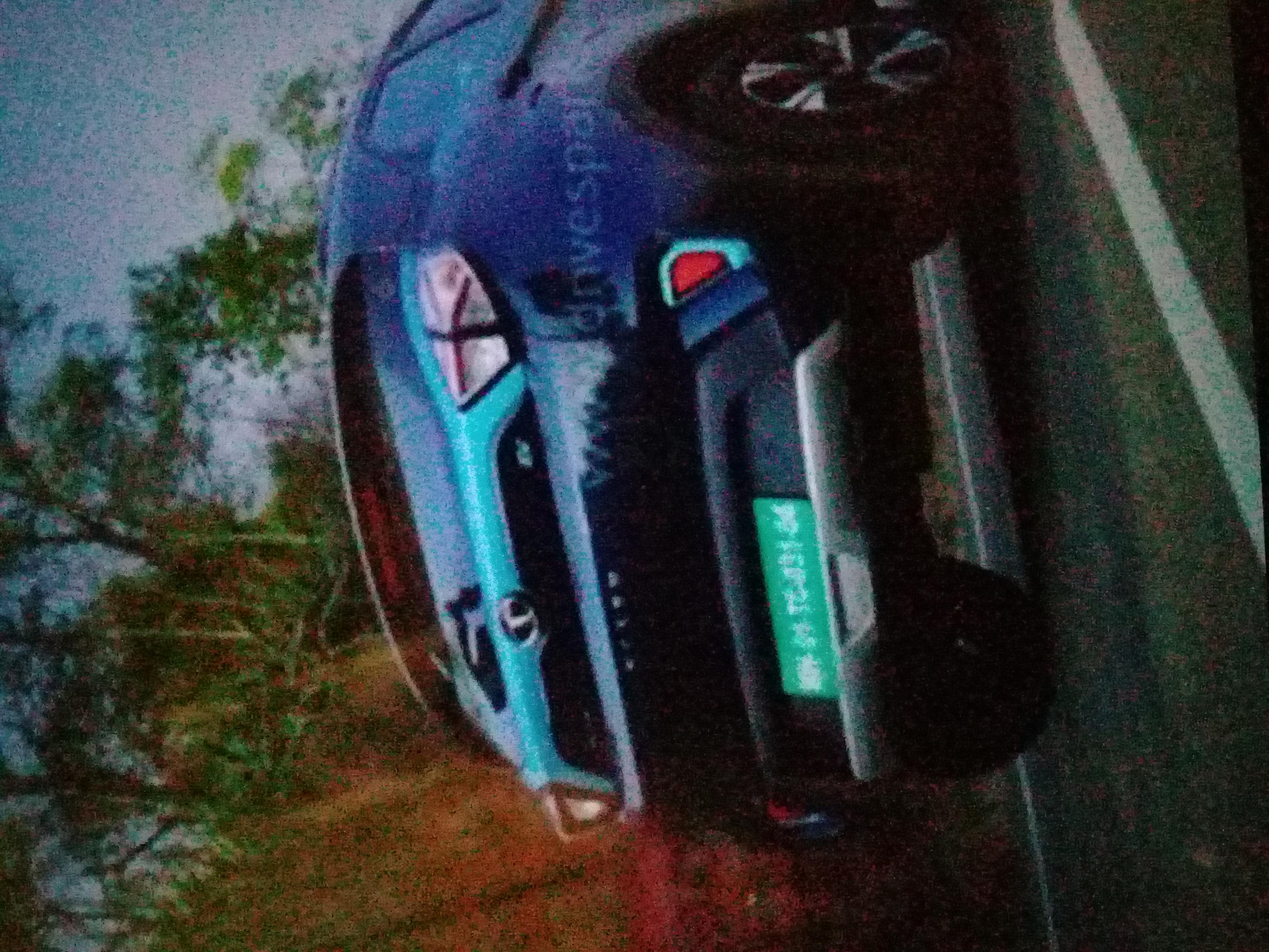green license plate: (318, 561, 616, 627)
